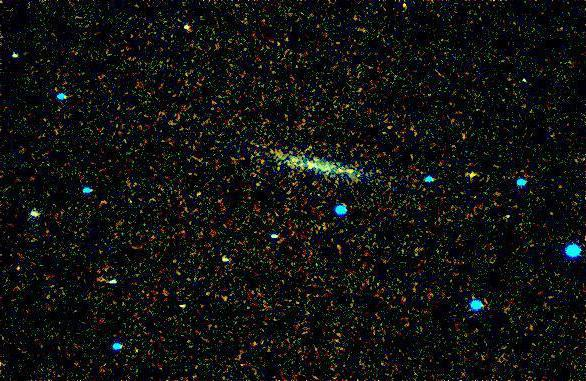star: (295, 155, 325, 185)
